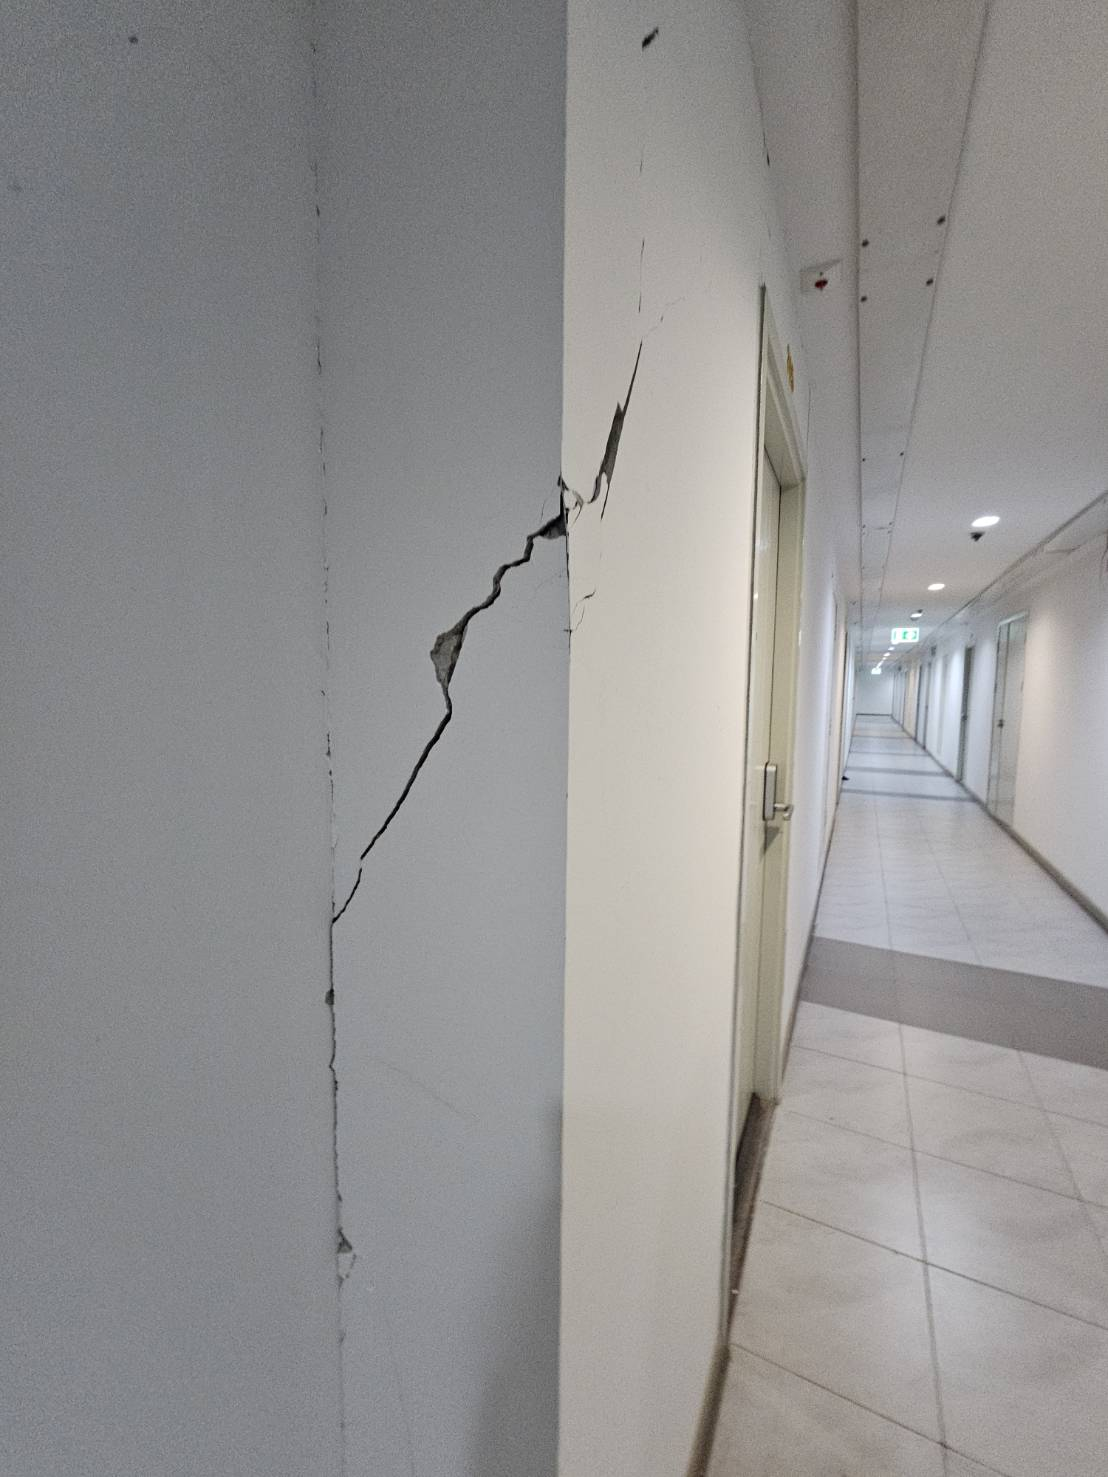Medium: (279, 357, 712, 887)
